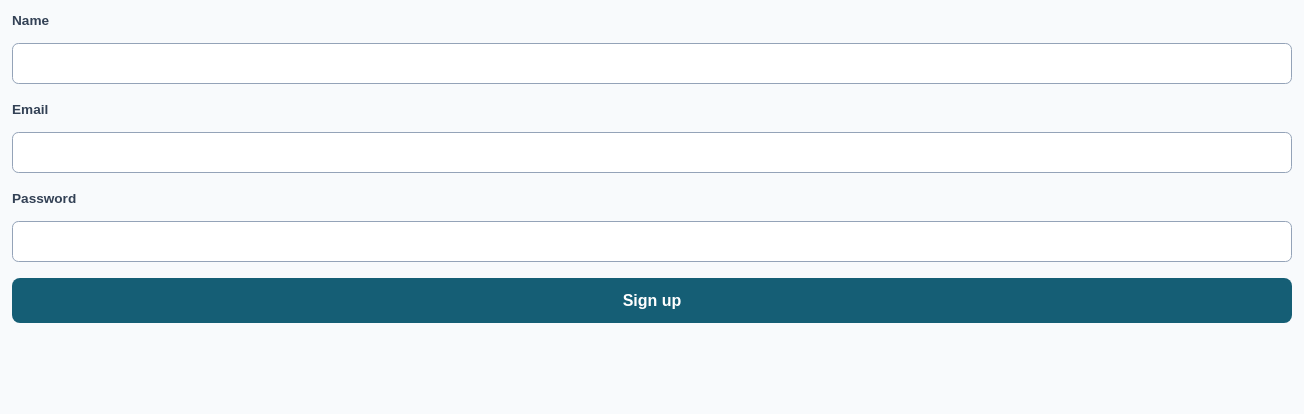
authentication UI and configuration › signs up with name and uses a generic failure message
This screenshot has width=1304, height=414.
Type "Synthetic User" into the field labelled "Name" at (652, 63), box [12,43,1292,84]
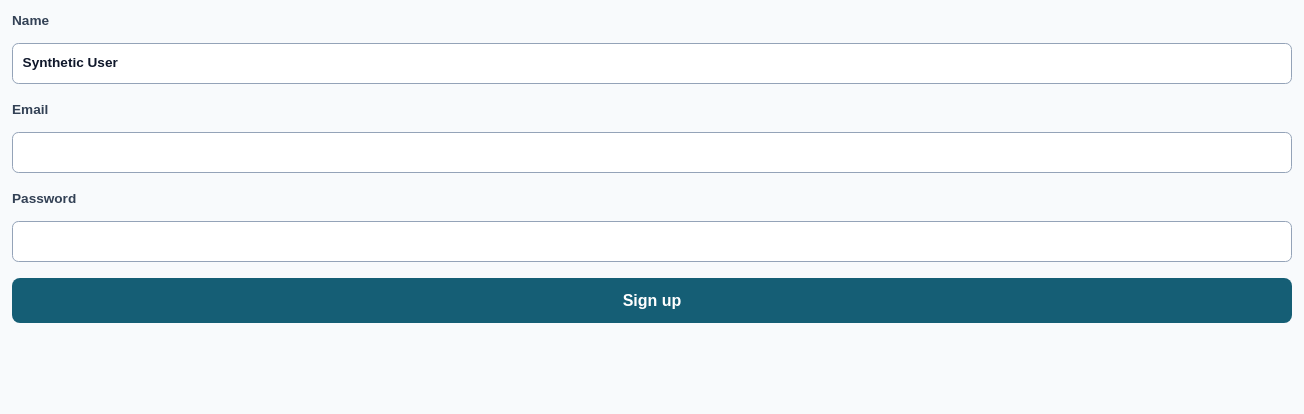
Type "user-a@synthetic.example" into the field labelled "Email" at (652, 152), box [12,132,1292,173]
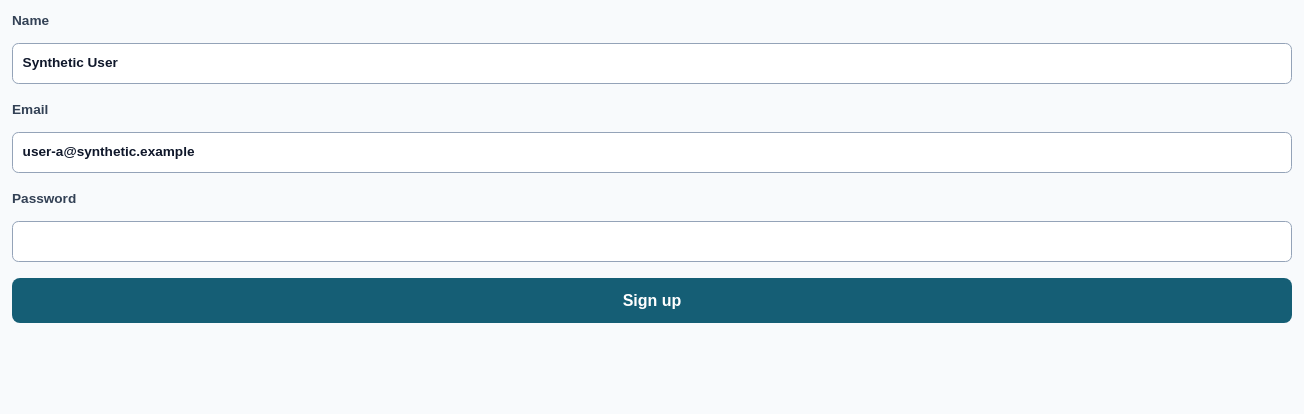
Type "Synthetic123!" into the password field labelled "Password" at (652, 242), box [12,221,1292,262]
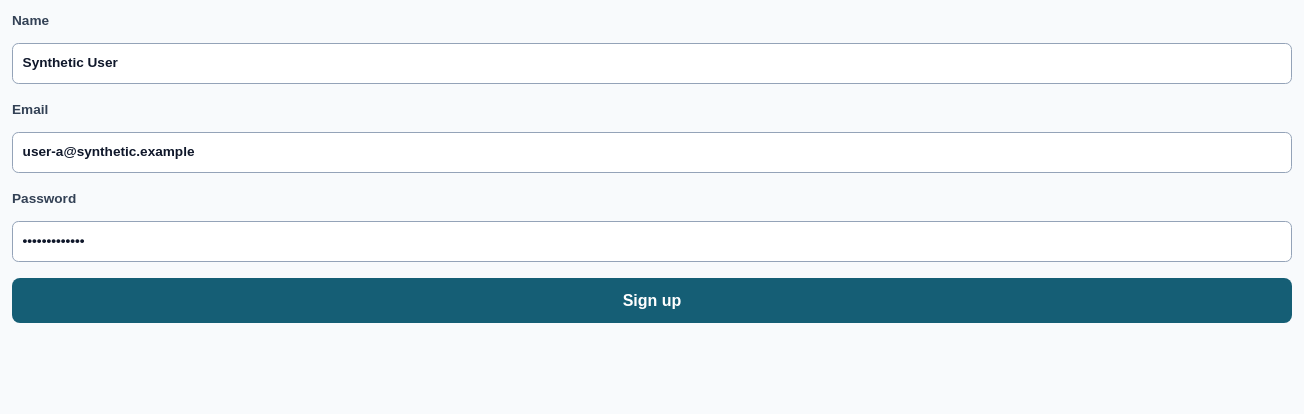
Click the button "Sign up" at (652, 301), box [12,278,1292,323]
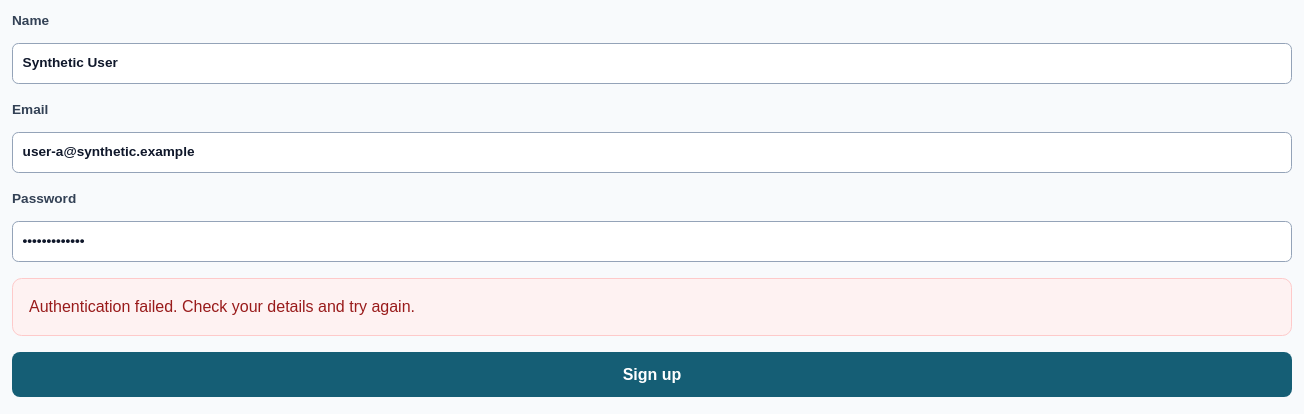
Expected: the message does not show "email exists", [12,278,1292,336]
Expected: the message shows "Authentication failed", [29,298,415,316]
